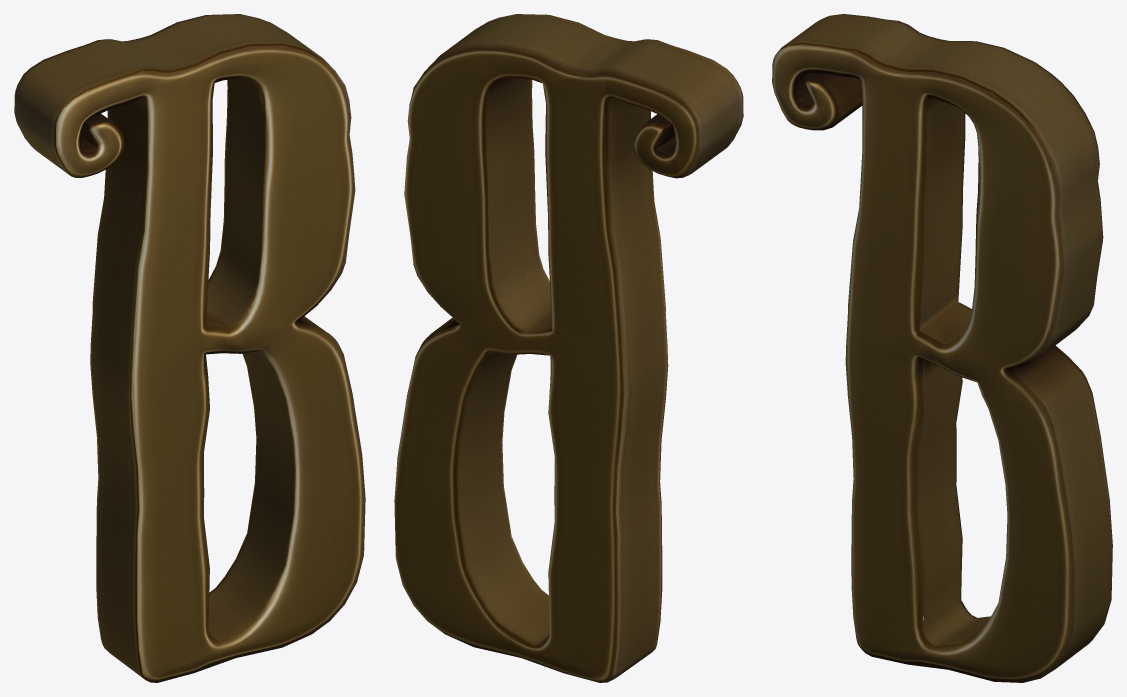
Rendered from B_LETTER.glb.
The picture shows the model from 3 angles, left to right: view 1: azimuth 30°, elevation 25°; view 2: azimuth 150°, elevation 25°; view 3: azimuth 330°, elevation 25°; orthographic projection. The views are drawn at different scales.
Parts seen in each view (by area): view 1: tripo_45be6b2d_f261_47c7_8967_884e73d7f919; view 2: tripo_45be6b2d_f261_47c7_8967_884e73d7f919; view 3: tripo_45be6b2d_f261_47c7_8967_884e73d7f919.
Boxes of the visible parts, x1,y1,x2,y2 form: tripo_45be6b2d_f261_47c7_8967_884e73d7f919: (14, 14, 365, 682); tripo_45be6b2d_f261_47c7_8967_884e73d7f919: (394, 14, 743, 682); tripo_45be6b2d_f261_47c7_8967_884e73d7f919: (772, 14, 1112, 682).
Bounding box in the file's own units: 0.5259 × 0.9995 × 0.1333.
Materials: 1 (1 with a texture image).
